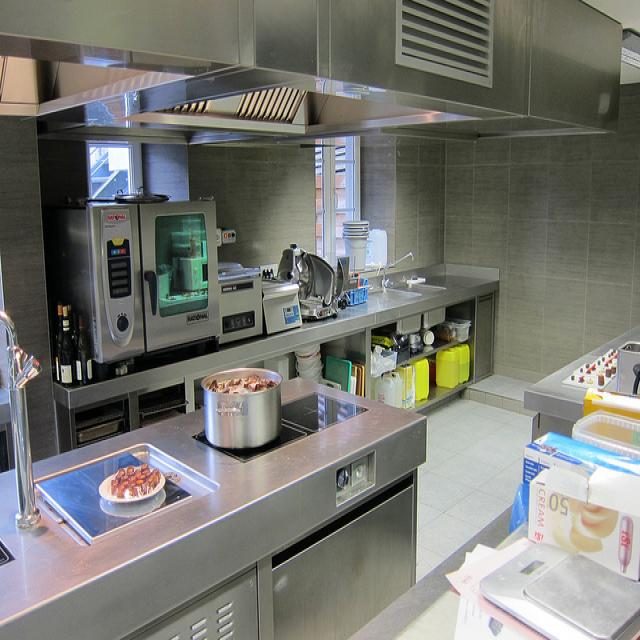bottle: (61, 307, 77, 387), (75, 314, 92, 385), (56, 305, 63, 384), (67, 304, 76, 332)
bowl: (343, 225, 369, 230)
oven: (165, 376, 428, 541), (56, 201, 222, 375)
sink: (367, 284, 447, 304)
